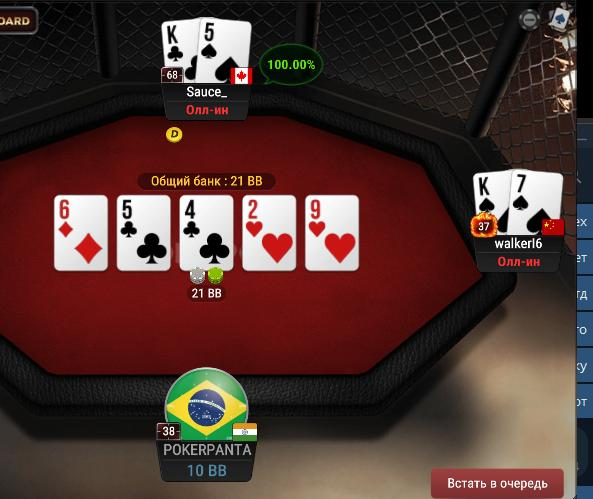2h: (243, 195, 295, 270)
4c: (181, 195, 233, 271)
5c: (117, 196, 171, 271)
5s: (199, 18, 251, 83)
6d: (55, 195, 108, 269)
7s: (510, 171, 563, 234)
9h: (305, 195, 357, 270)
Kc: (161, 20, 198, 85)
Ks: (473, 172, 509, 238)
